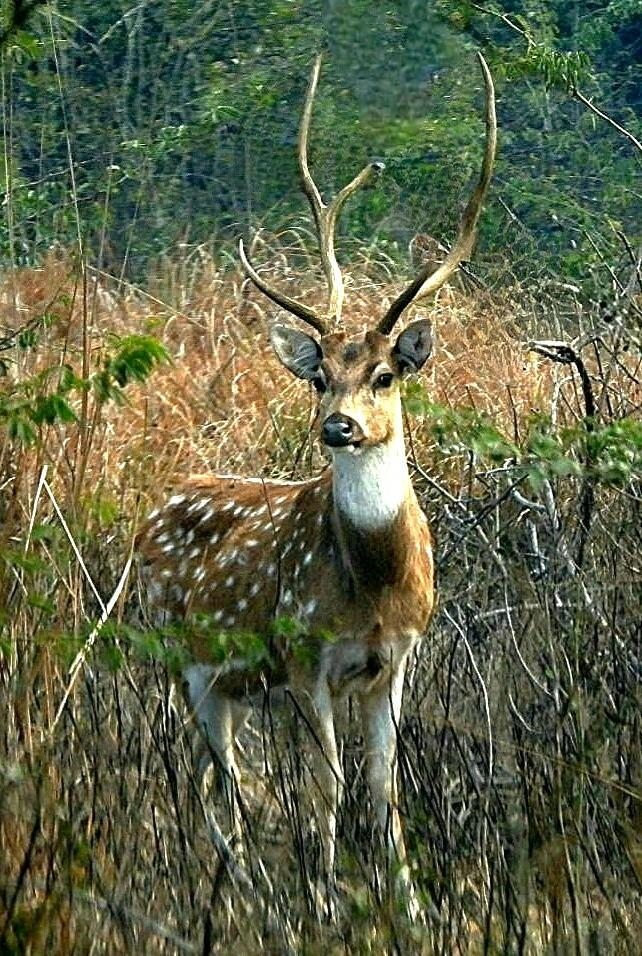Deer: (139, 57, 496, 844)
